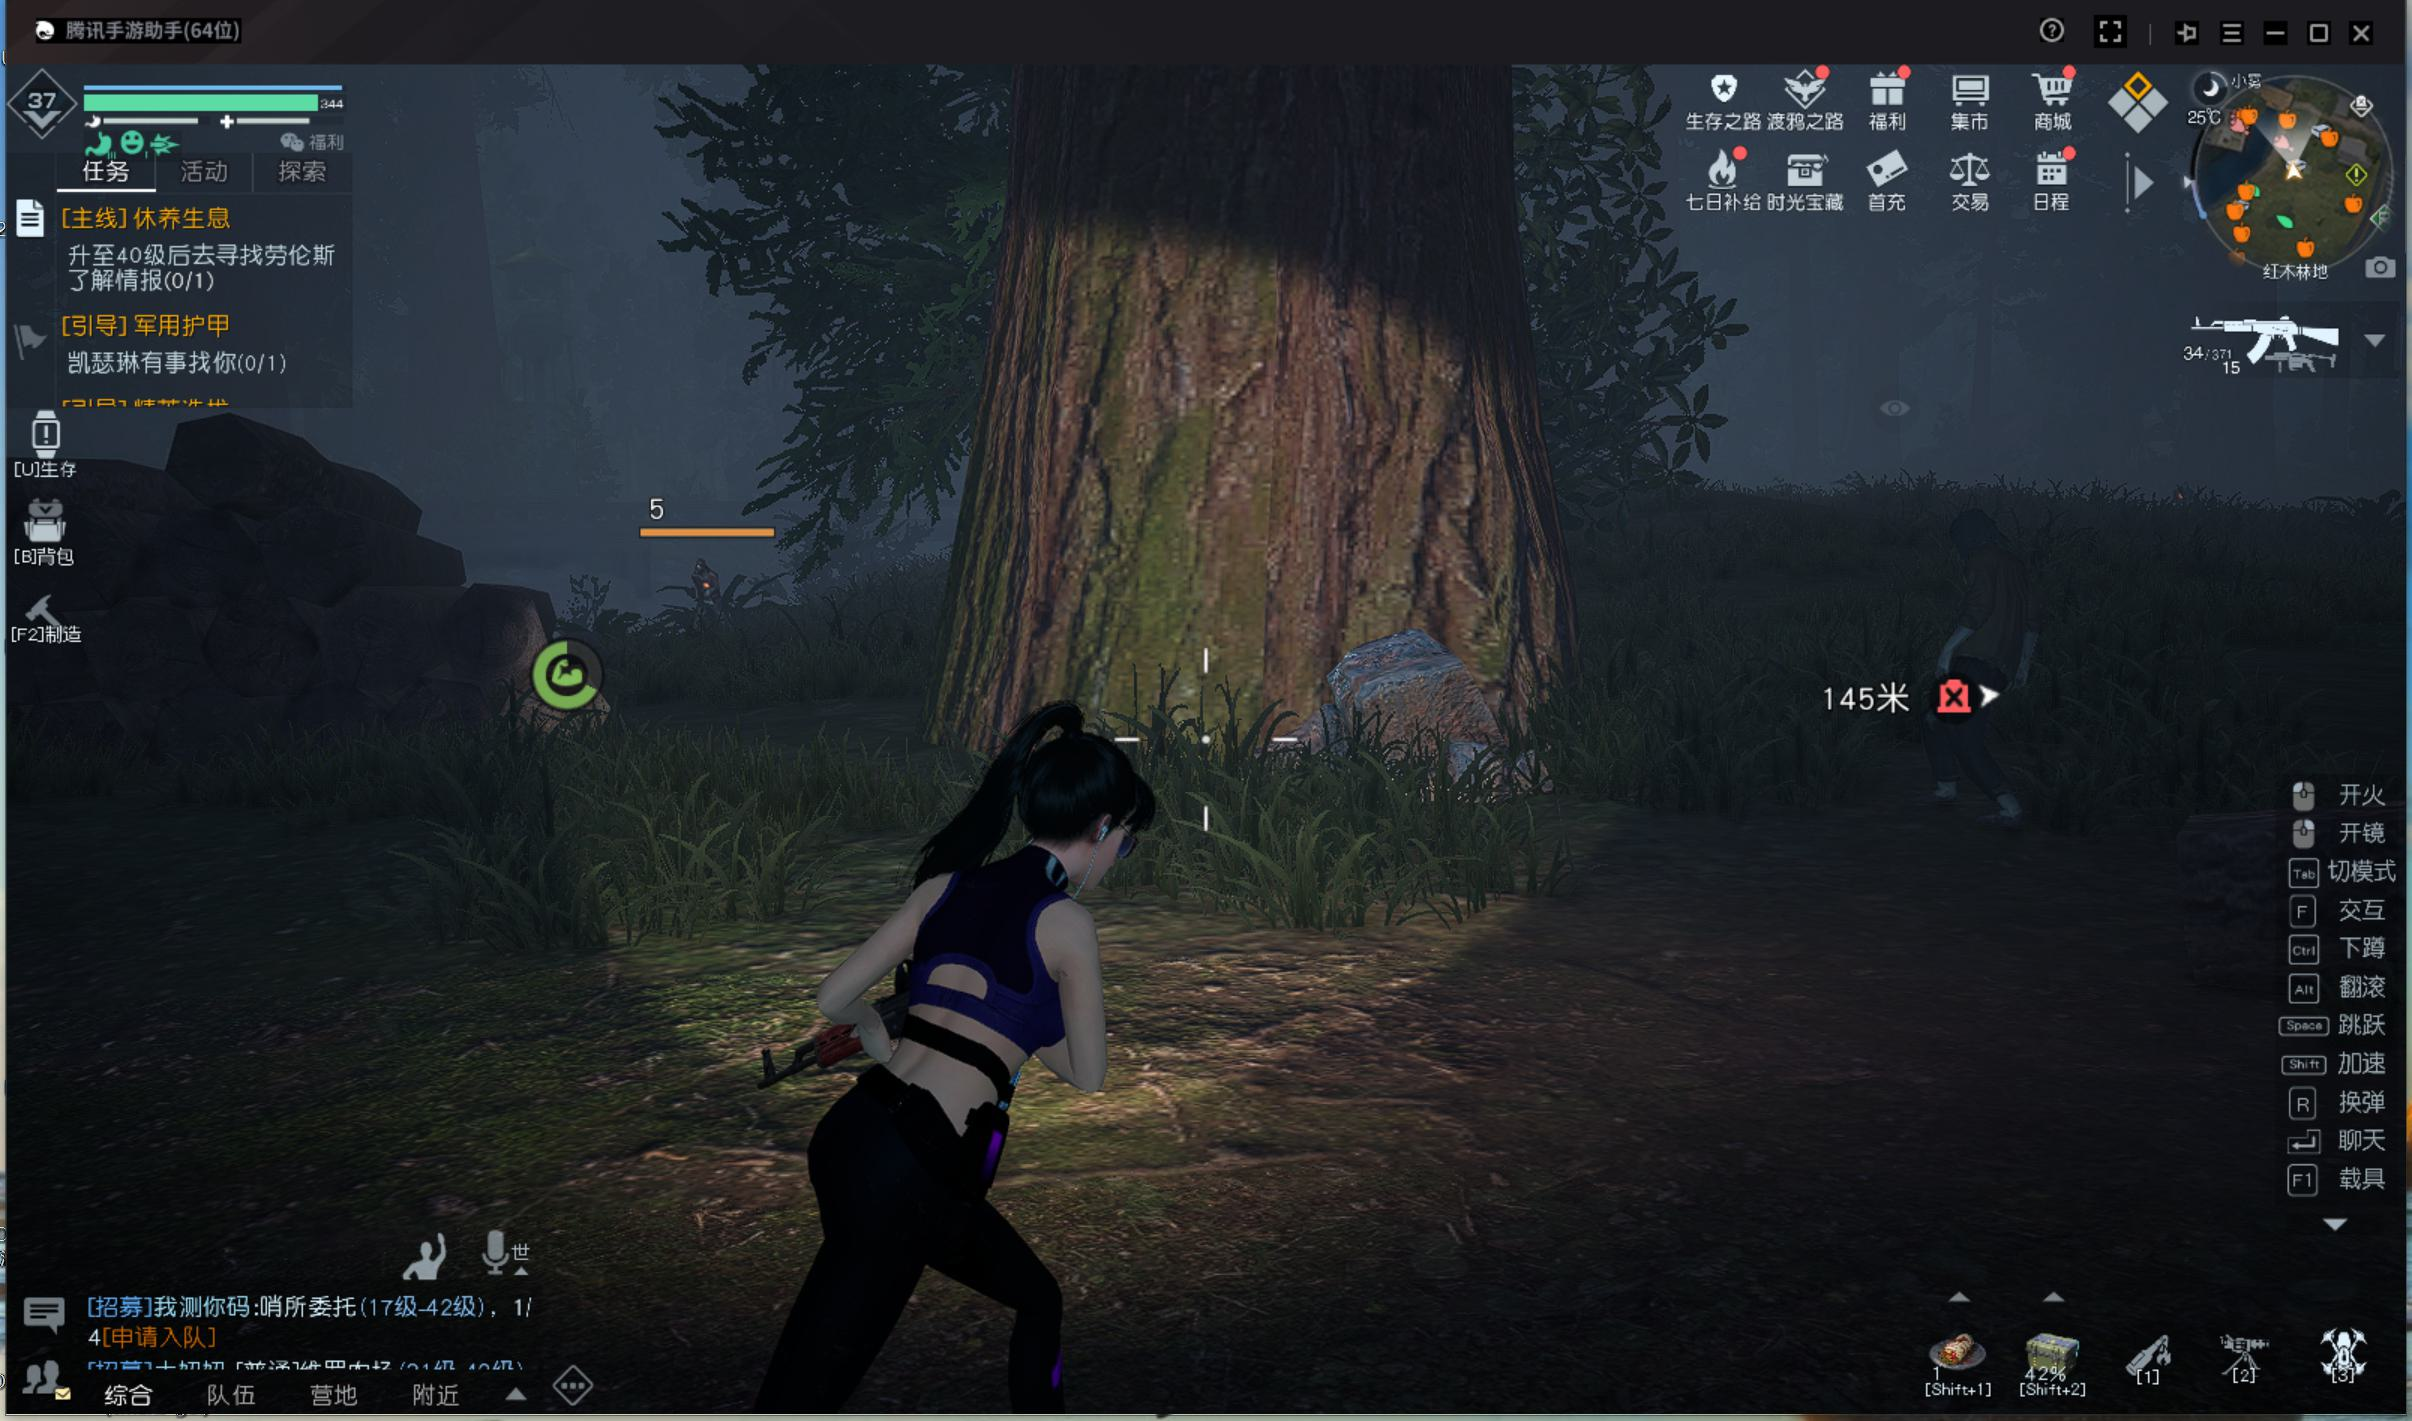stone: (1275, 623, 1588, 848)
